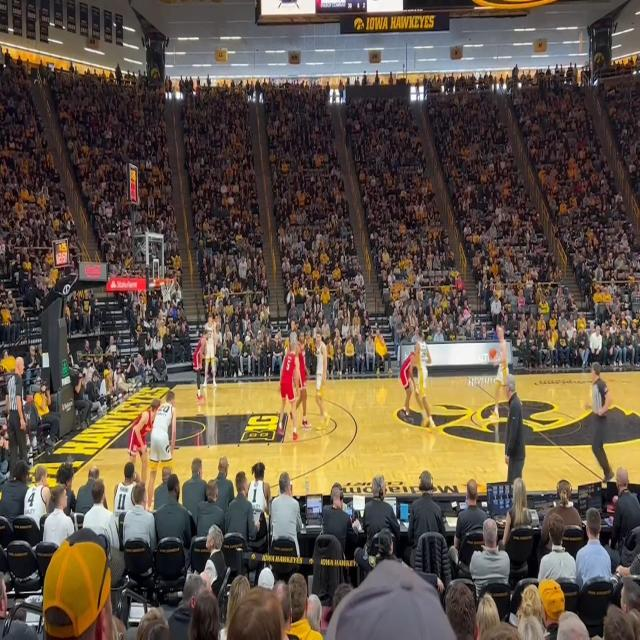Ball: (489, 348, 497, 359)
Hoop: (159, 278, 175, 302)
Player: (147, 390, 176, 512), (127, 398, 161, 502), (412, 330, 437, 434), (288, 330, 312, 429), (278, 342, 298, 441), (490, 325, 510, 418), (314, 330, 330, 431), (400, 346, 417, 424), (202, 314, 218, 388), (193, 330, 209, 402)
Ref: (584, 362, 616, 482), (6, 358, 30, 482), (287, 320, 299, 350)
